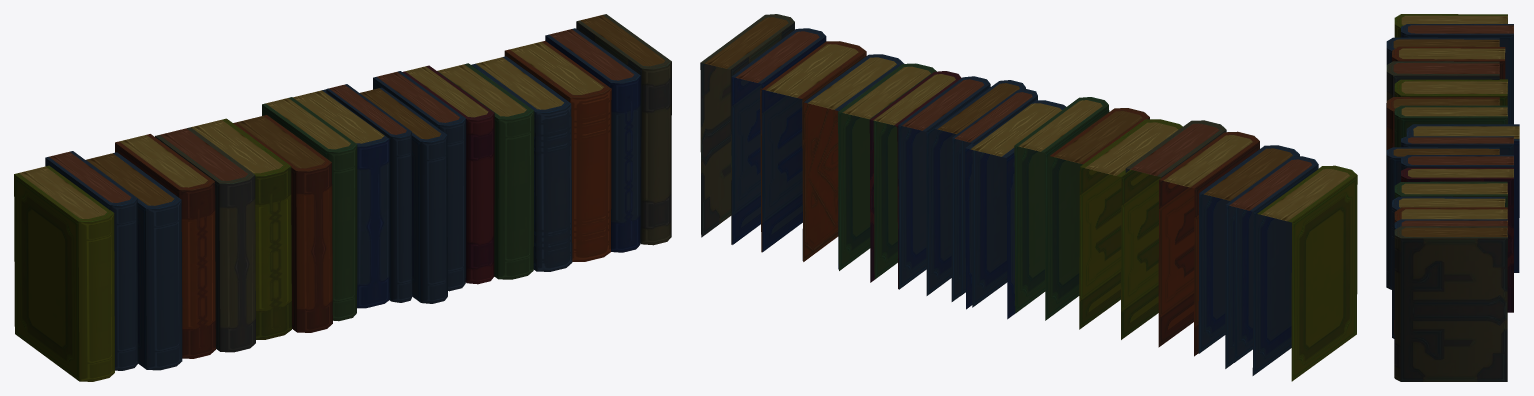
Rendered from BookGroup_Medium_3.gltf.
3 views of the same model, side by side, from view 1: azimuth 30°, elevation 25°; view 2: azimuth 150°, elevation 25°; view 3: azimuth 270°, elevation 25° (orthographic). The views are drawn at different scales.
Parts seen in each view (by area): view 1: BookGroup_Medium_3; view 2: BookGroup_Medium_3; view 3: BookGroup_Medium_3.
Boxes of the visible parts, bbox=[...] form: BookGroup_Medium_3: bbox=[14, 14, 671, 381]; BookGroup_Medium_3: bbox=[700, 14, 1357, 381]; BookGroup_Medium_3: bbox=[1386, 14, 1519, 381].
Bounding box in the file's own units: 1.04 × 0.2949 × 0.2475.
Materials: 1 (1 with a texture image).
